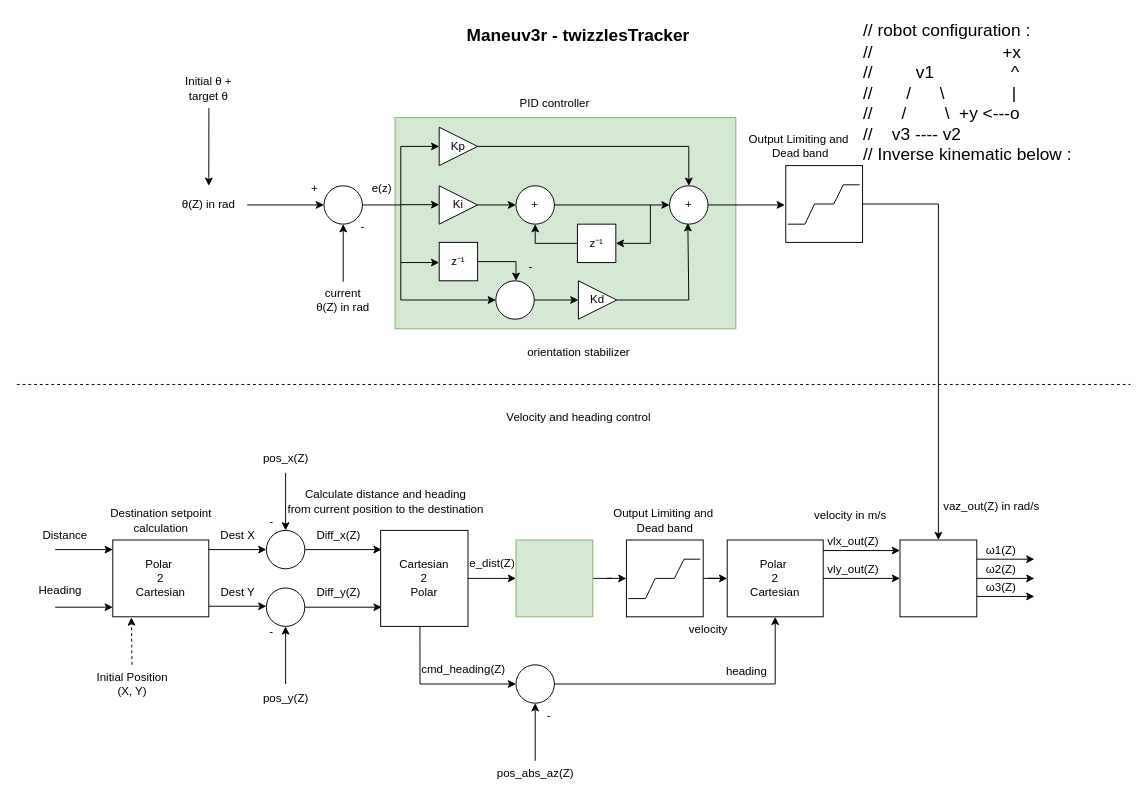
Image size: 1148x804. Some labels were removed from this diagram. The shapes that lost their labels are listed below. From the top down, each one's box as (x1, y1, x2, y2) in pixels, then its label:
(515, 539, 593, 617): PID
(899, 539, 977, 617): Inverse kinematics
